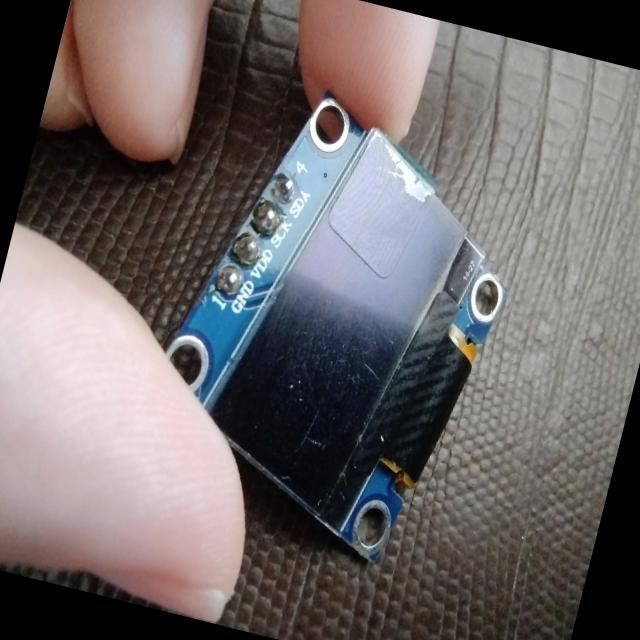oled: (115, 59, 554, 604)
